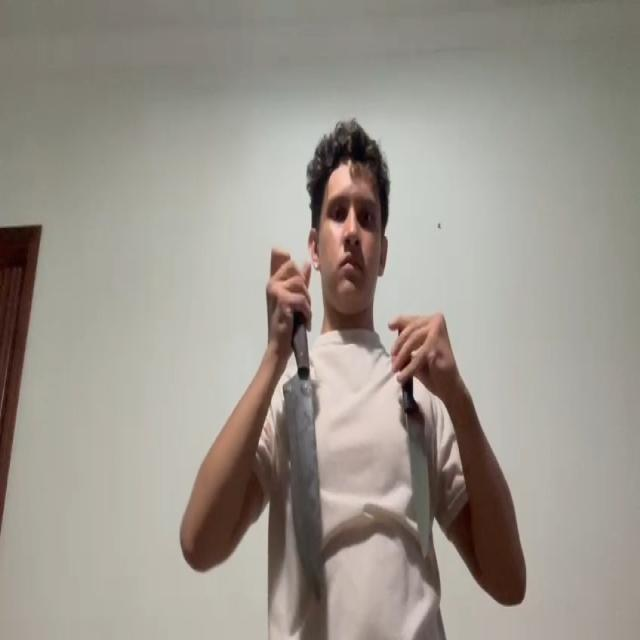knife: (284, 372, 324, 608), (406, 404, 431, 563)
